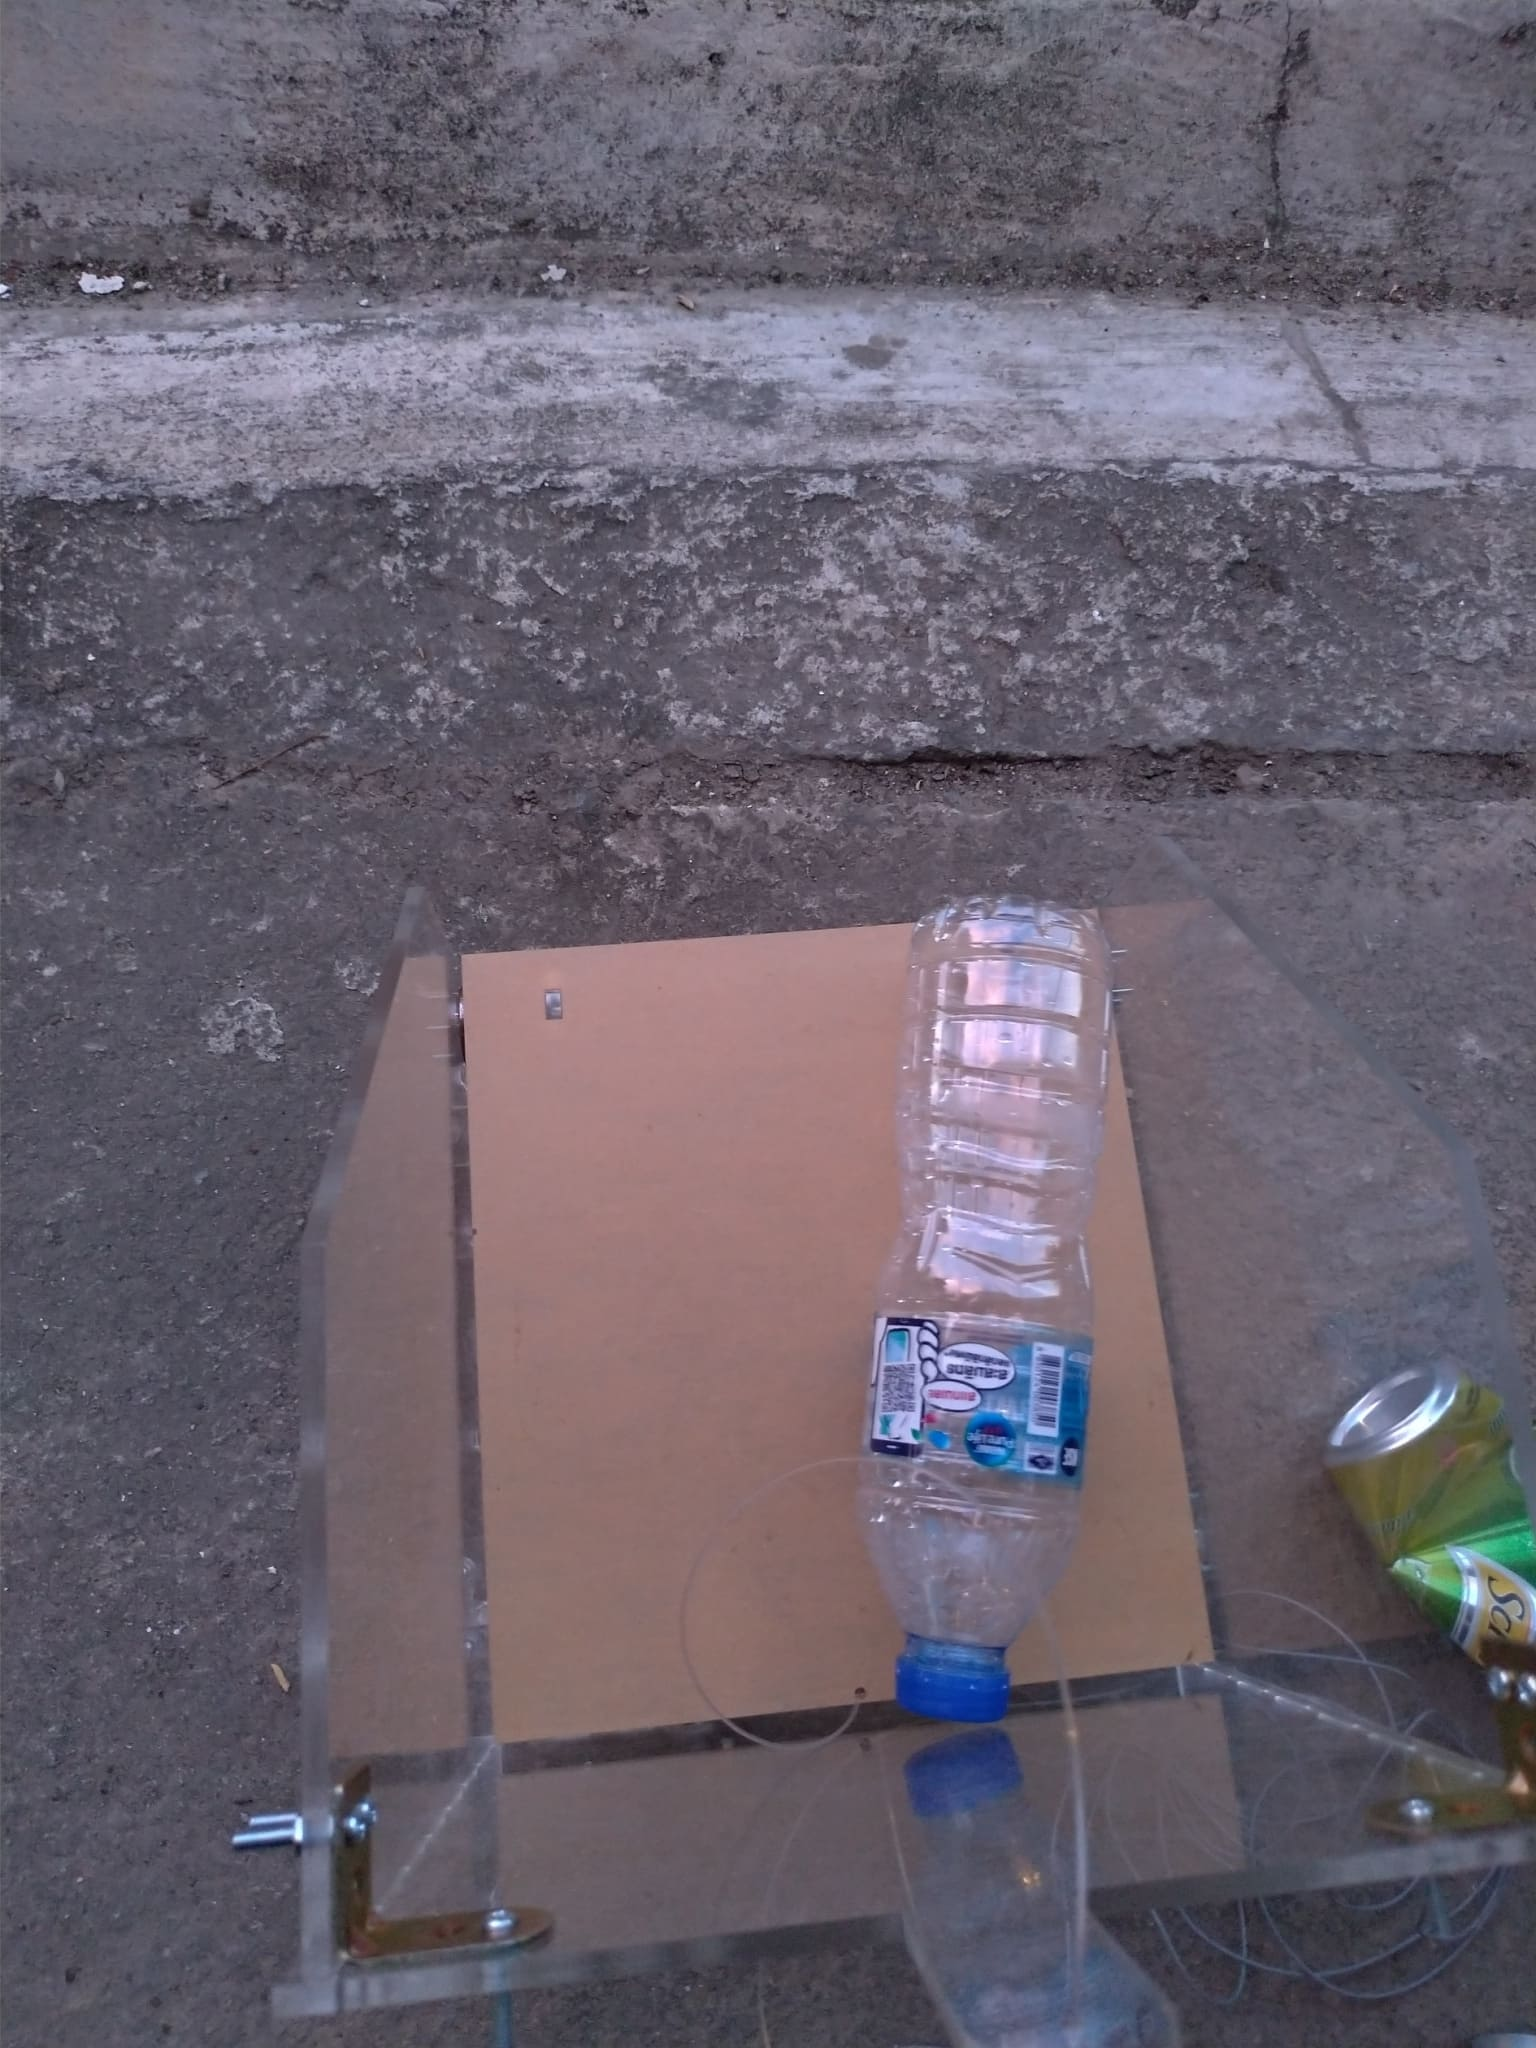AlCan: (1312, 1358, 1536, 1669)
PlasticBottle: (863, 903, 1125, 1709)
